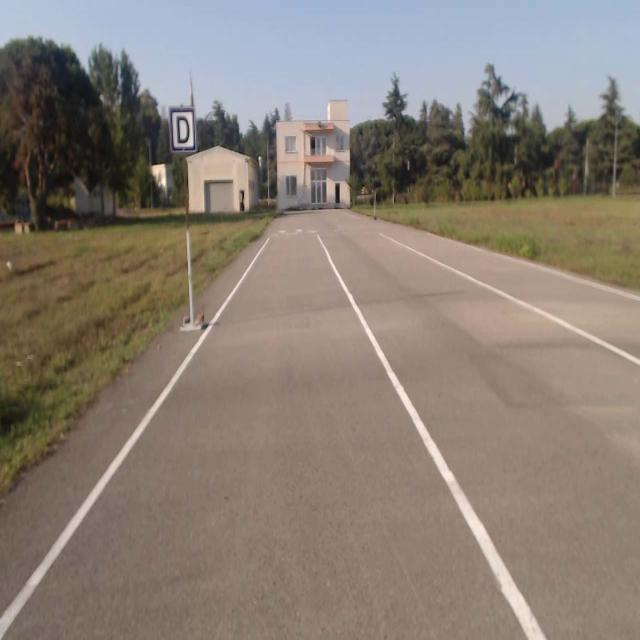durak: (169, 107, 196, 152)
